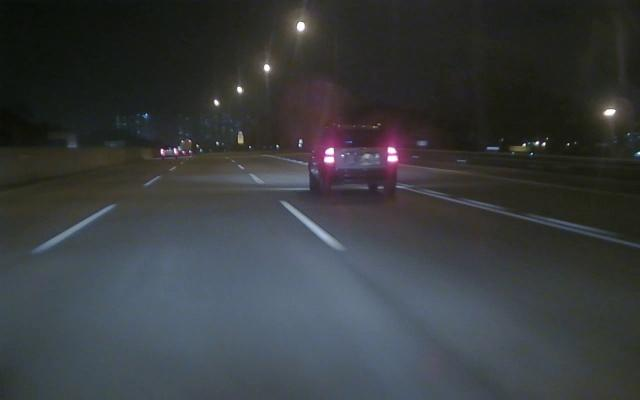lane: (400, 187, 639, 249), (21, 176, 160, 255), (239, 165, 347, 249)
